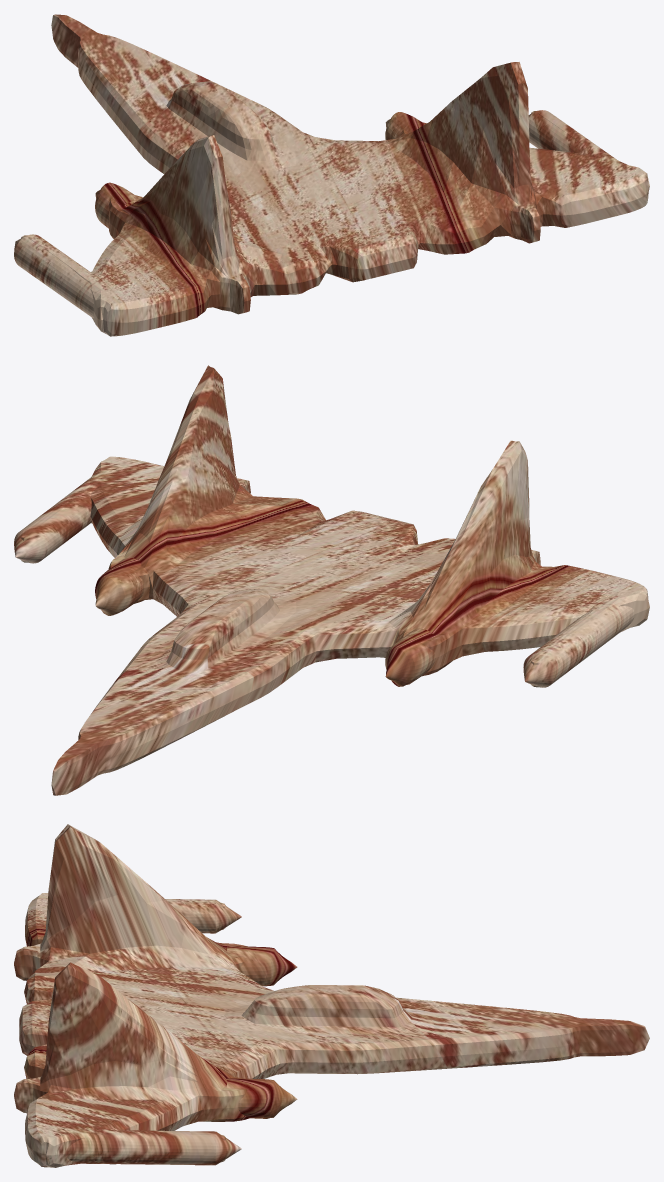
The model's file is nave_pronta_gabriel2.obj.
3 views of the same model, one above another, from view 1: azimuth 30°, elevation 25°; view 2: azimuth 150°, elevation 25°; view 3: azimuth 270°, elevation 25° (orthographic). The views are drawn at different scales.
Parts seen in each view (by area): view 1: Mesh_ShapeIndexedFaceSet.003; view 2: Mesh_ShapeIndexedFaceSet.003; view 3: Mesh_ShapeIndexedFaceSet.003.
Boxes of the visible parts, <box> form: Mesh_ShapeIndexedFaceSet.003: <box>14,14,649,336</box>; Mesh_ShapeIndexedFaceSet.003: <box>14,365,649,795</box>; Mesh_ShapeIndexedFaceSet.003: <box>14,824,649,1167</box>.
Size of the model in its own units: 3.91 by 1.15 by 4.2.
Materials: 1 (1 with a texture image).
